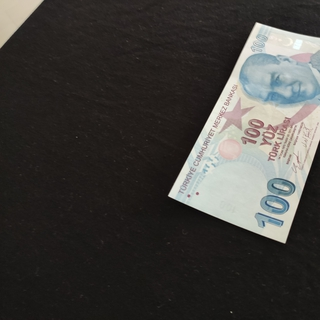100TLFront: (168, 21, 320, 244)
